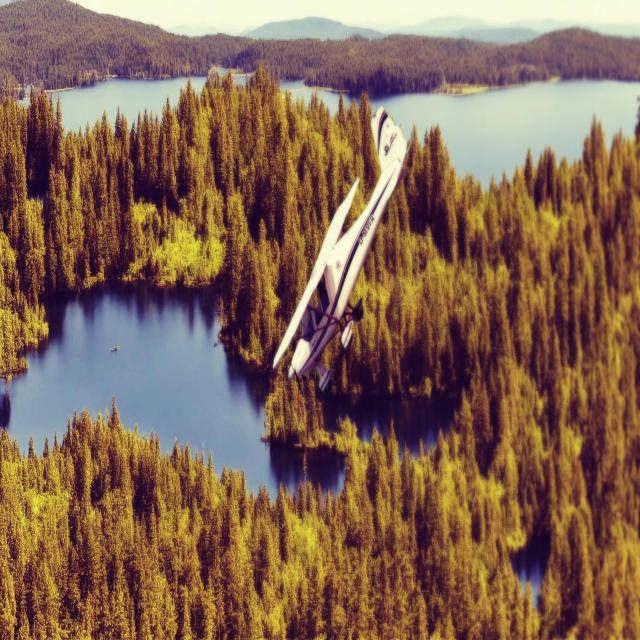airplane: (272, 106, 412, 394)
